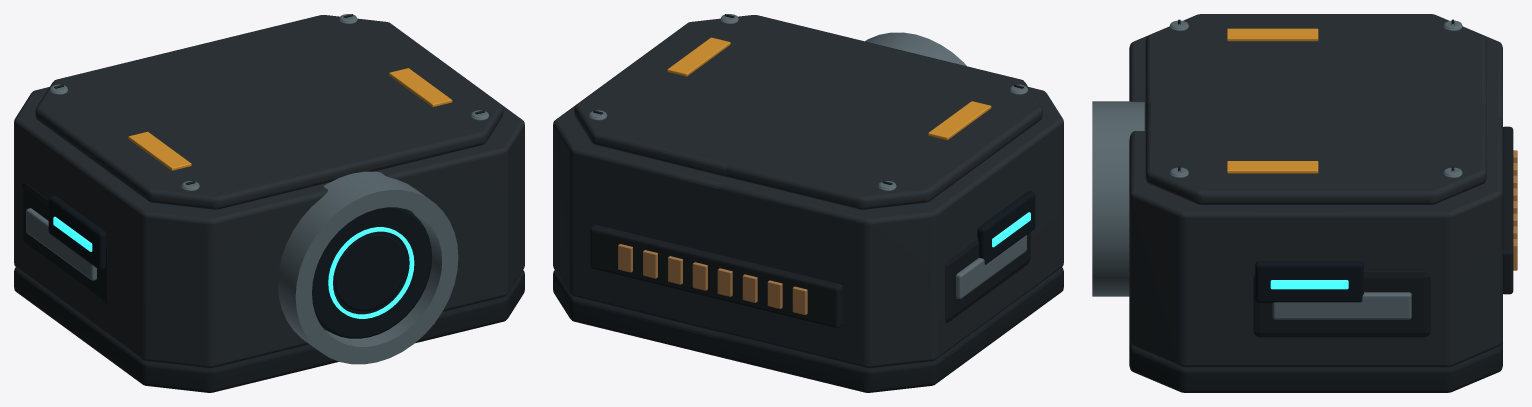
File: scout_module.glb
The picture shows the model from 3 angles, left to right: view 1: azimuth 30°, elevation 25°; view 2: azimuth 150°, elevation 25°; view 3: azimuth 270°, elevation 25°; orthographic projection. The views are drawn at different scales.
Parts seen in each view (by area): view 1: ServiceLid, ConformalCassetteShell, ReconOpticRim, LowerIsolationSeal, ReconOpticGlass, ReconOpticPupil, RecessedCoupler.001, SideScanWindow.001, WitnessMark.001, CouplerRail.001, ReconOpticInner; view 2: ConformalCassetteShell, ServiceLid, LowerIsolationSeal, ConnectorRecess, RecessedCoupler.001, WitnessMark.001, SideScanWindow.001, CouplerRail.001, ReconOpticRim, GoldContact.004, GoldContact.006, GoldContact.005 (+1 smaller); view 3: ServiceLid, ConformalCassetteShell, LowerIsolationSeal, ReconOpticRim, RecessedCoupler.001, SideScanWindow.001, CouplerRail.001, WitnessMark.001, ConnectorRecess, SideScanLight.001.
Part boxes in pixels (x1,y1,x2,y2): ServiceLid: (35, 15, 503, 209); ConformalCassetteShell: (14, 87, 524, 368); ReconOpticRim: (278, 171, 458, 364); LowerIsolationSeal: (14, 267, 524, 392); ReconOpticGlass: (312, 207, 432, 338); ReconOpticPupil: (334, 234, 406, 310); RecessedCoupler.001: (22, 182, 107, 304); SideScanWindow.001: (48, 195, 106, 270); WitnessMark.001: (128, 68, 452, 170); CouplerRail.001: (26, 208, 96, 280); ReconOpticInner: (328, 227, 414, 318); ConformalCassetteShell: (553, 87, 1063, 368); ServiceLid: (574, 15, 1042, 209); LowerIsolationSeal: (553, 267, 1063, 392); ConnectorRecess: (590, 225, 842, 328); RecessedCoupler.001: (945, 232, 1030, 322); WitnessMark.001: (667, 37, 991, 140); SideScanWindow.001: (977, 191, 1035, 264); CouplerRail.001: (956, 235, 1026, 298); ReconOpticRim: (865, 32, 966, 66); GoldContact.004: (692, 262, 732, 296); GoldContact.006: (643, 250, 782, 308); GoldContact.005: (668, 256, 757, 302); ServiceLid: (1145, 14, 1486, 204); ConformalCassetteShell: (1129, 35, 1502, 367); LowerIsolationSeal: (1129, 341, 1502, 392); ReconOpticRim: (1092, 101, 1144, 296); RecessedCoupler.001: (1253, 271, 1430, 337); SideScanWindow.001: (1255, 261, 1363, 302); CouplerRail.001: (1272, 292, 1411, 319); WitnessMark.001: (1227, 28, 1318, 173); ConnectorRecess: (1503, 126, 1513, 294); SideScanLight.001: (1270, 280, 1348, 289).
Size of the model in its own units: 1.11 by 0.514 by 0.9785.
